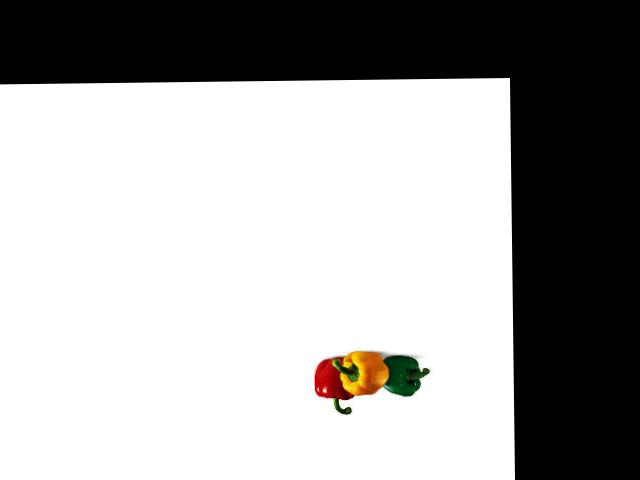bell_pepper: (377, 350, 428, 400)
